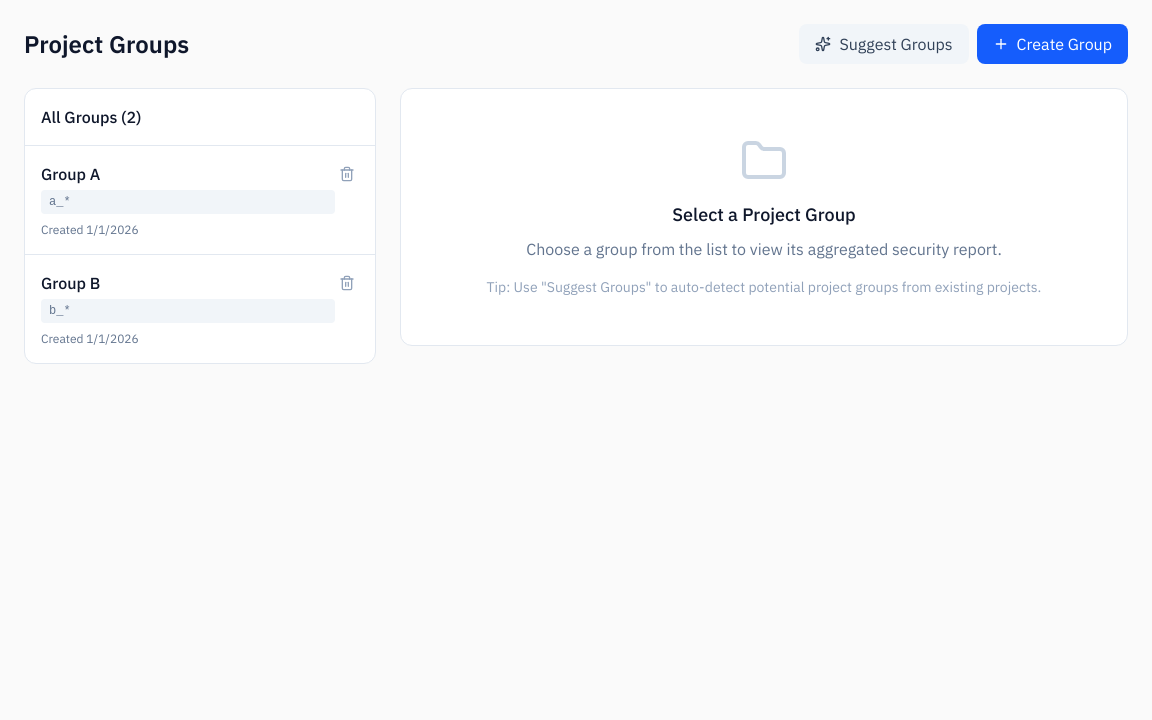
Test: ProjectGroupsPage › switching groups while a request for the previous group is in flight does not overwrite the new selection
Click the heading "Group A".
click(71, 174)  # box x1=41 y1=164 x2=100 y2=184
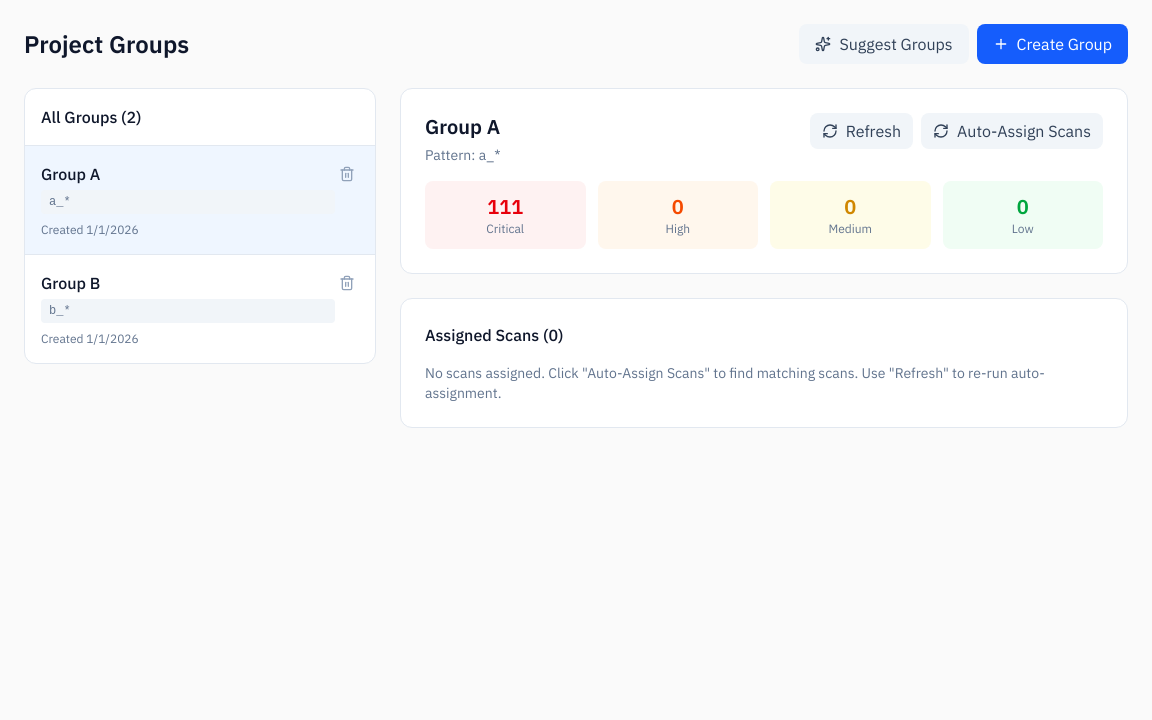
expect the text "111" is shown: met, box x1=487 y1=193 x2=523 y2=220
Click the button "Auto-Assign Scans".
click(1012, 131)  # box x1=921 y1=113 x2=1103 y2=149
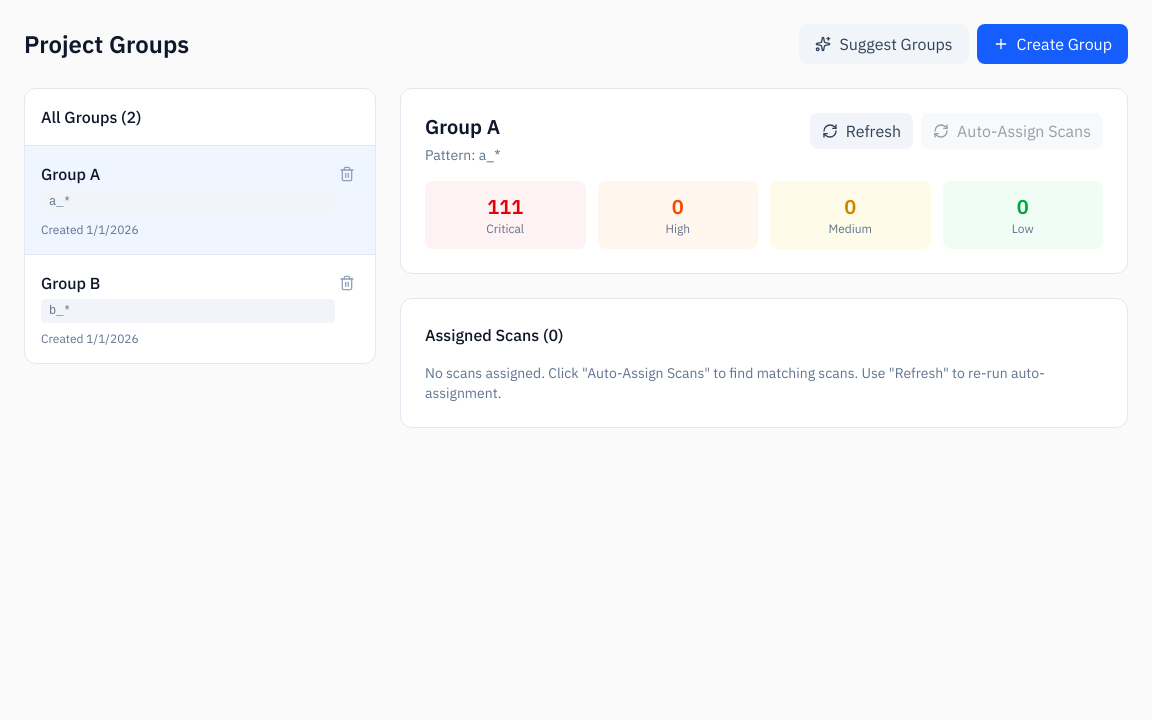
# Switch to group B before A's auto-assign request resolves.
Click the heading "Group B".
click(71, 283)  # box x1=41 y1=273 x2=100 y2=293
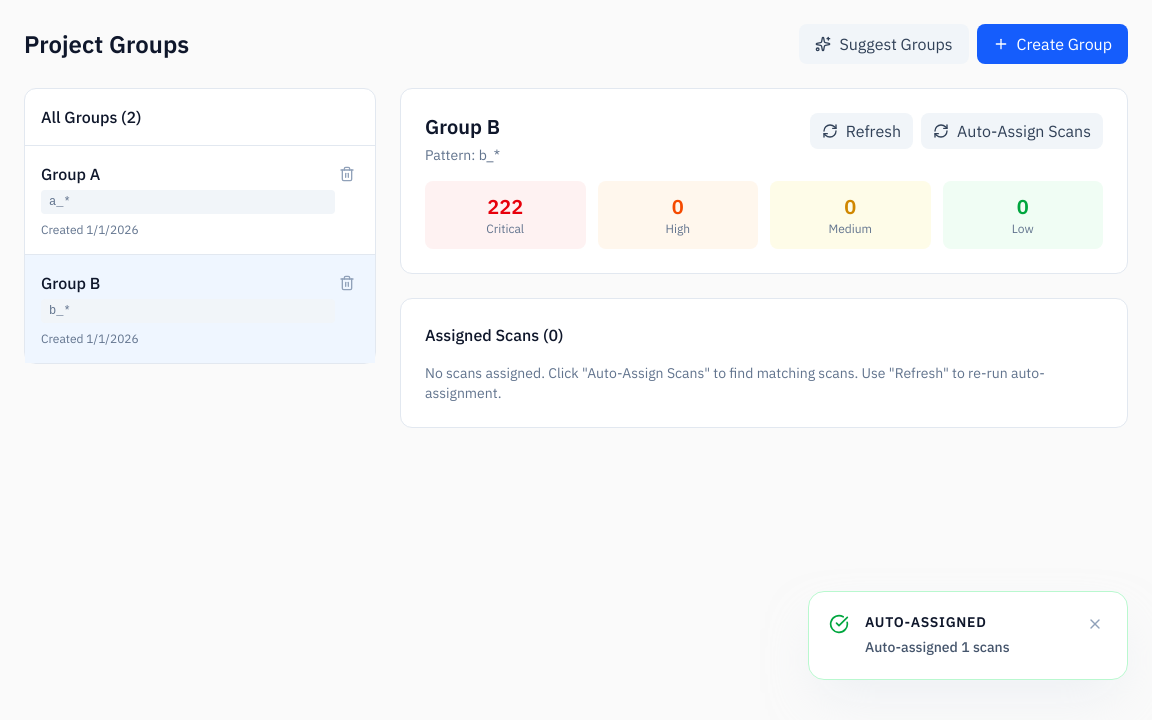
expect the text "222" is shown: met, box x1=487 y1=193 x2=523 y2=220
expect the text "111" is gone: met
